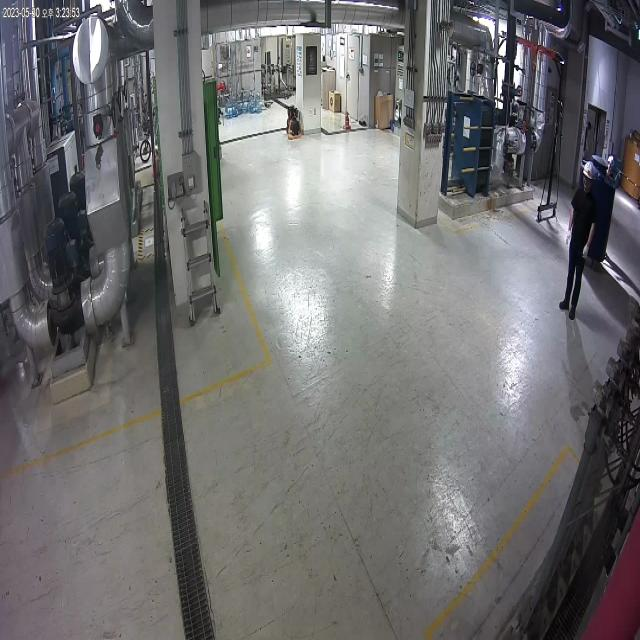Water Tank: (578, 144, 618, 279)
worker: (556, 157, 602, 330)
